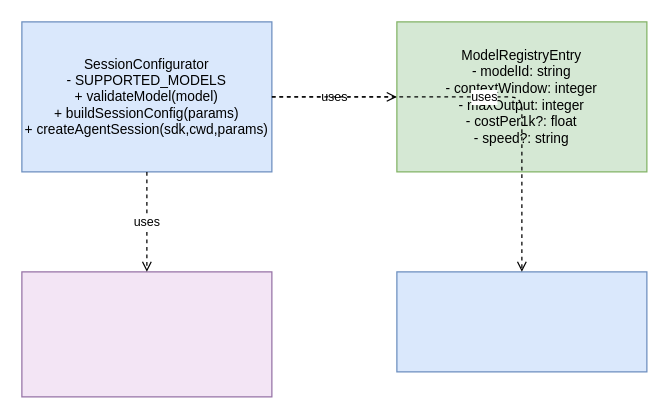
The diagram is 669 pixels wide and 419 high, and some of its shapes have lost their labels. Here are the shapes that lost their labels. From the top down, the centre of each, then its label:
At (x=146, y=334): "BudgetCalculator + estimateTokens(chars) + calculateBudget(model,inputs)".
At (x=521, y=321): "ThinkingLevelMapper + map(modelId,level): maxTokens".
